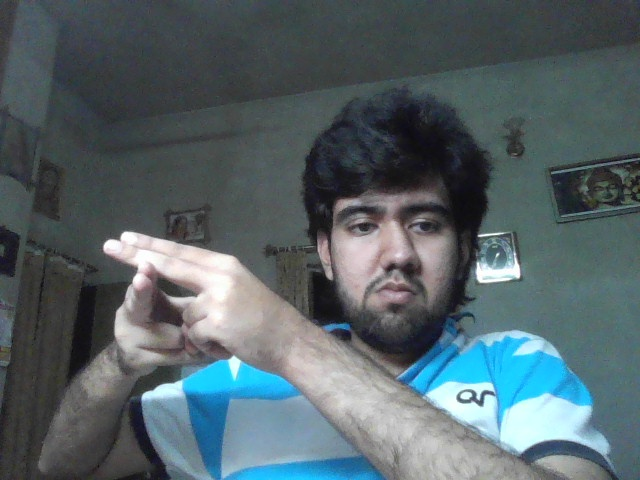Name: (102, 231, 280, 376)
